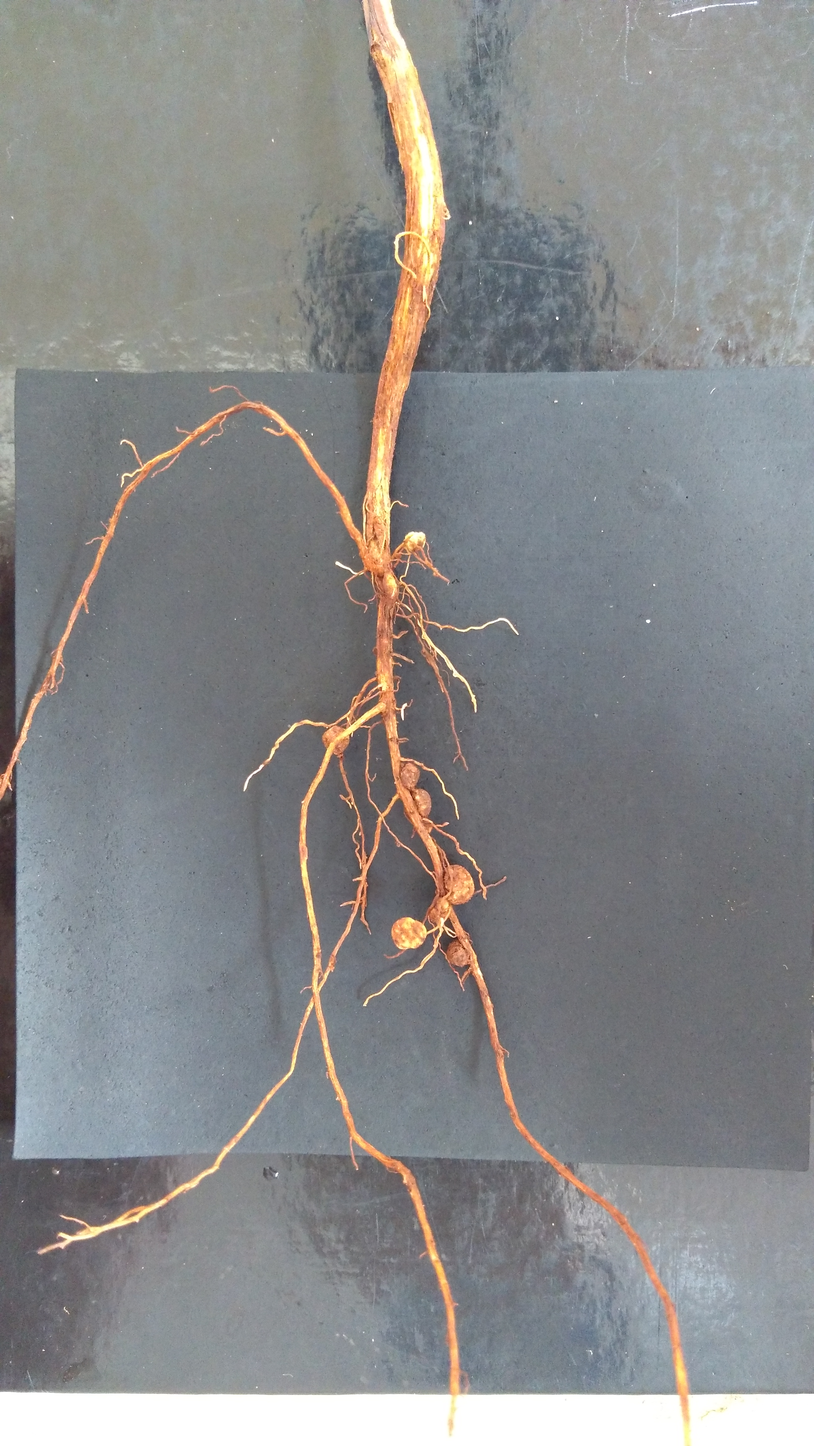nodule: (441, 863, 475, 905), (390, 917, 427, 950), (403, 788, 431, 825), (321, 724, 350, 755), (446, 938, 472, 967), (399, 760, 419, 791), (382, 569, 400, 599), (403, 531, 427, 553), (433, 896, 449, 916), (427, 907, 440, 922), (421, 819, 432, 832), (393, 552, 402, 561)
